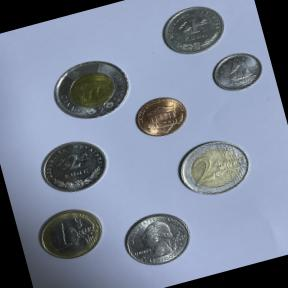coin: (41, 49, 139, 129), (168, 130, 262, 206), (114, 202, 200, 276), (32, 131, 116, 201), (30, 199, 112, 269), (130, 90, 194, 144), (206, 46, 270, 98)
